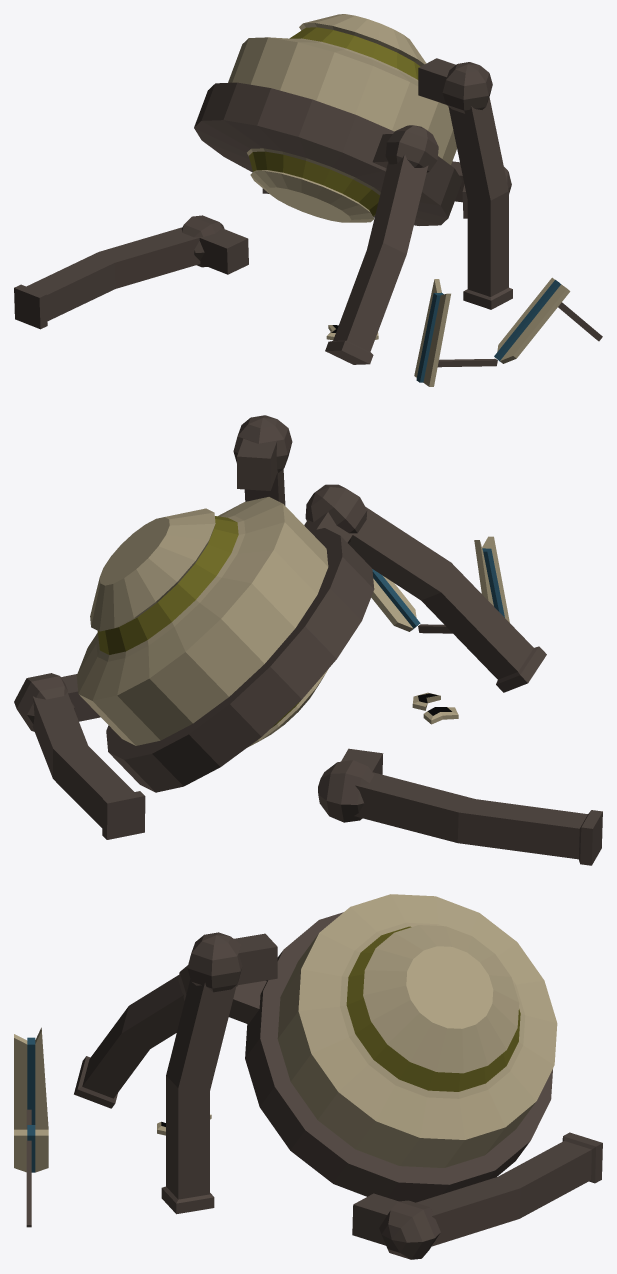
The model's file is BrokenBuildingHub.fbx.
3 views of the same model, one above another, from view 1: azimuth 30°, elevation 25°; view 2: azimuth 150°, elevation 25°; view 3: azimuth 270°, elevation 25° (orthographic). The views are drawn at different scales.
Parts seen in each view (by area): view 1: Broken Building Hub; view 2: Broken Building Hub; view 3: Broken Building Hub.
Boxes of the visible parts, x1,y1,x2,y2 form: Broken Building Hub: (14,14,602,386); Broken Building Hub: (14,415,602,865); Broken Building Hub: (14,894,602,1259).
Bounding box in the file's own units: 476 × 212 × 428.
